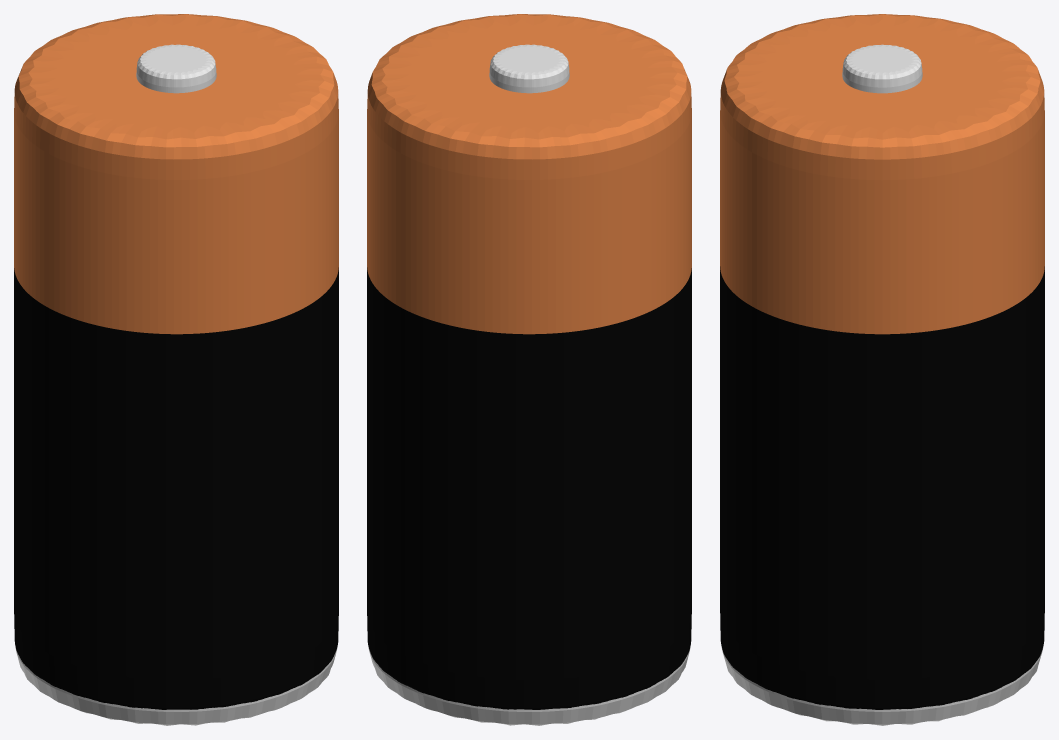
Rendered from battery.fbx.
3 views of the same model, side by side, from view 1: azimuth 30°, elevation 25°; view 2: azimuth 150°, elevation 25°; view 3: azimuth 270°, elevation 25° (orthographic).
Parts seen in each view (by area): view 1: Cylinder.002, Cylinder.001, Cylinder; view 2: Cylinder.002, Cylinder.001, Cylinder; view 3: Cylinder.002, Cylinder.001, Cylinder.
Boxes of the visible parts, <box> form: Cylinder.002: <box>14,14,338,709</box>; Cylinder.001: <box>15,646,337,725</box>; Cylinder: <box>136,44,216,93</box>; Cylinder.002: <box>367,14,691,709</box>; Cylinder.001: <box>368,646,690,725</box>; Cylinder: <box>489,44,569,93</box>; Cylinder.002: <box>720,14,1044,709</box>; Cylinder.001: <box>721,647,1043,725</box>; Cylinder: <box>842,44,922,93</box>.
Size of the model in its own units: 112 by 230 by 112.
